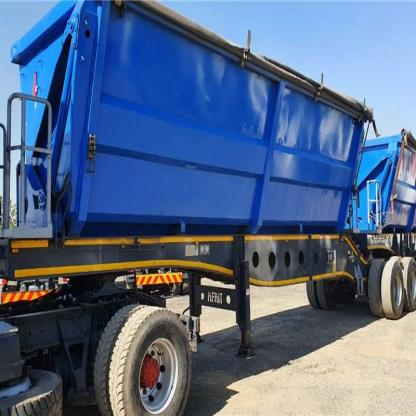dump_truck: (6, 4, 416, 415)
